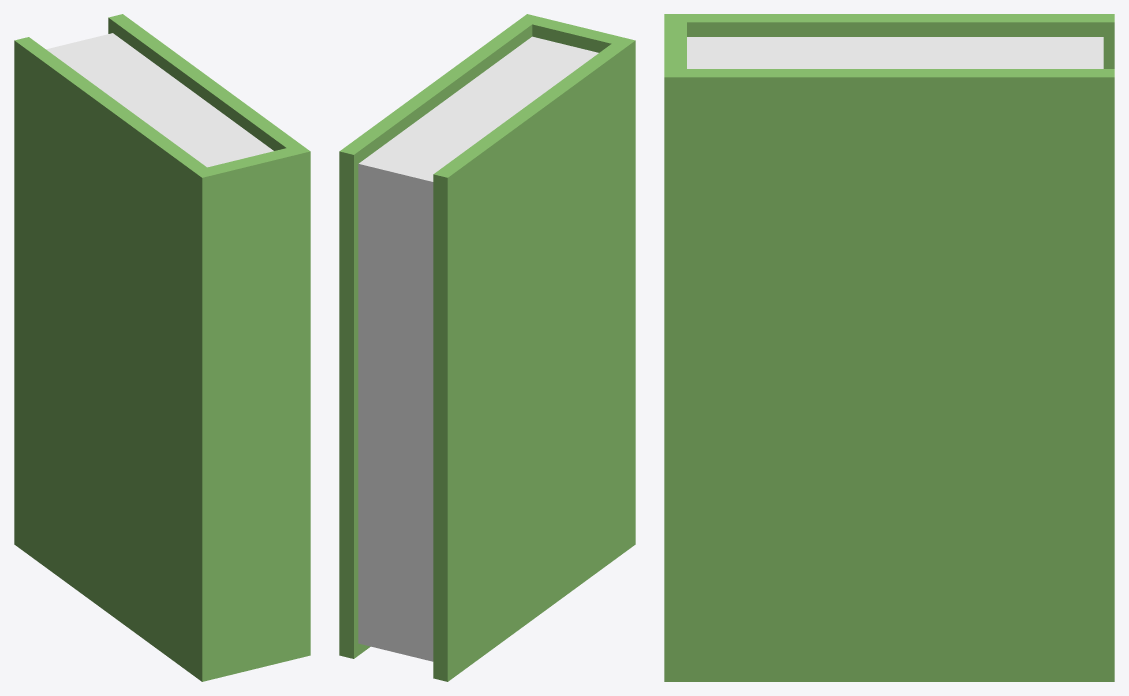
The model's file is Book_Single.fbx.
The picture shows the model from 3 angles, left to right: view 1: azimuth 30°, elevation 25°; view 2: azimuth 150°, elevation 25°; view 3: azimuth 270°, elevation 25°; orthographic projection. The views are drawn at different scales.
Visible parts, largest first — view 1: Book_Single; view 2: Book_Single; view 3: Book_Single.
Part boxes in pixels (x1,y1,x2,y2): Book_Single: (14, 14, 310, 681); Book_Single: (339, 14, 635, 681); Book_Single: (664, 14, 1114, 681).
Size of the model in its own units: 0.0319 by 0.1419 by 0.0958.
